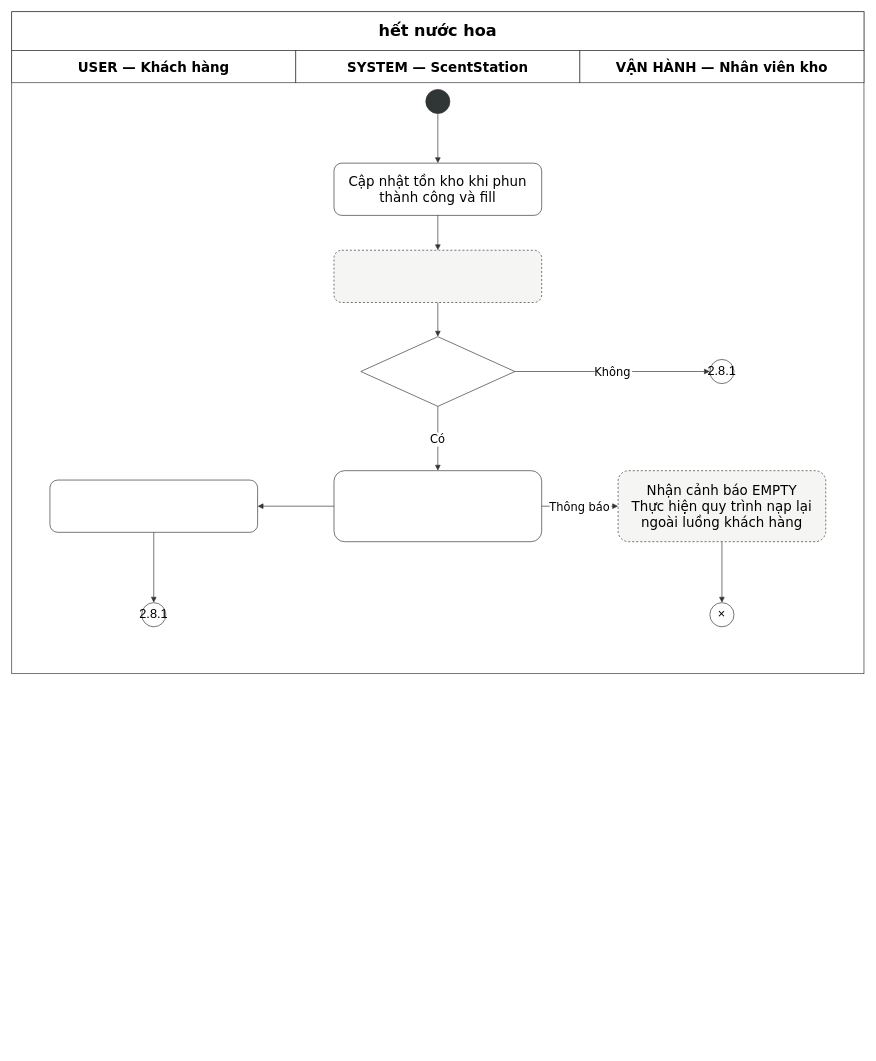
Some shapes in this 876 by 1061 pixel diagram are drawn without their labels. Here are the shapes that lost their labels. From the top down, the centre of each, then its label:
At (437,276): "Kiểm tra lại khe và tồn kho ngay trước khi tạo đơn".
At (437,371): "Không đủ 1 lượt hoặc khe EMPTY?".
At (153,505): "Thấy mùi trong trang thái hết Chọn mùi khác khi còn hàng".
At (437,506): "Khe không đủ: cập nhật EMPTY Giữ DISABLED nếu đang bị khóa Chặn tạo đơn / QR mới".
